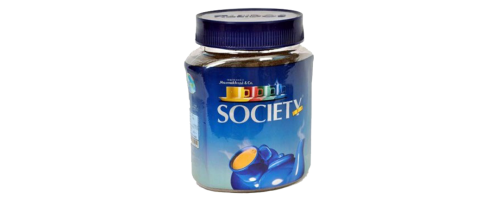society: (180, 60, 318, 193)
